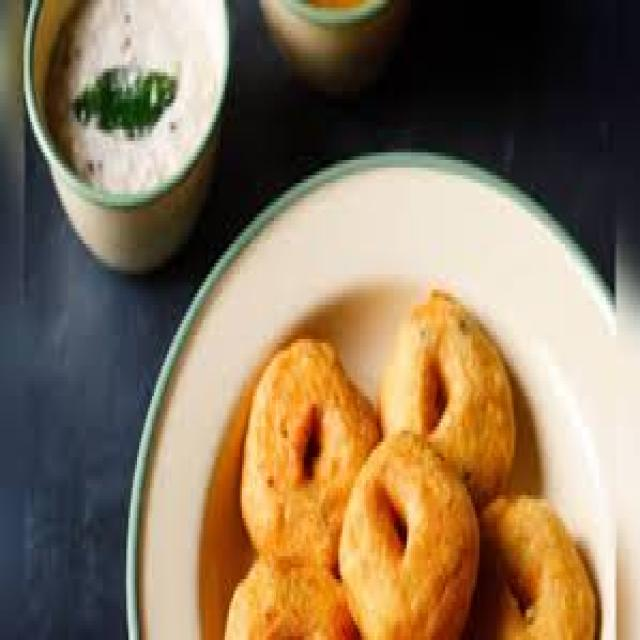MEDU VADA: (237, 338, 380, 571), (374, 279, 514, 512), (337, 426, 477, 636), (459, 494, 597, 636), (226, 557, 352, 636)
